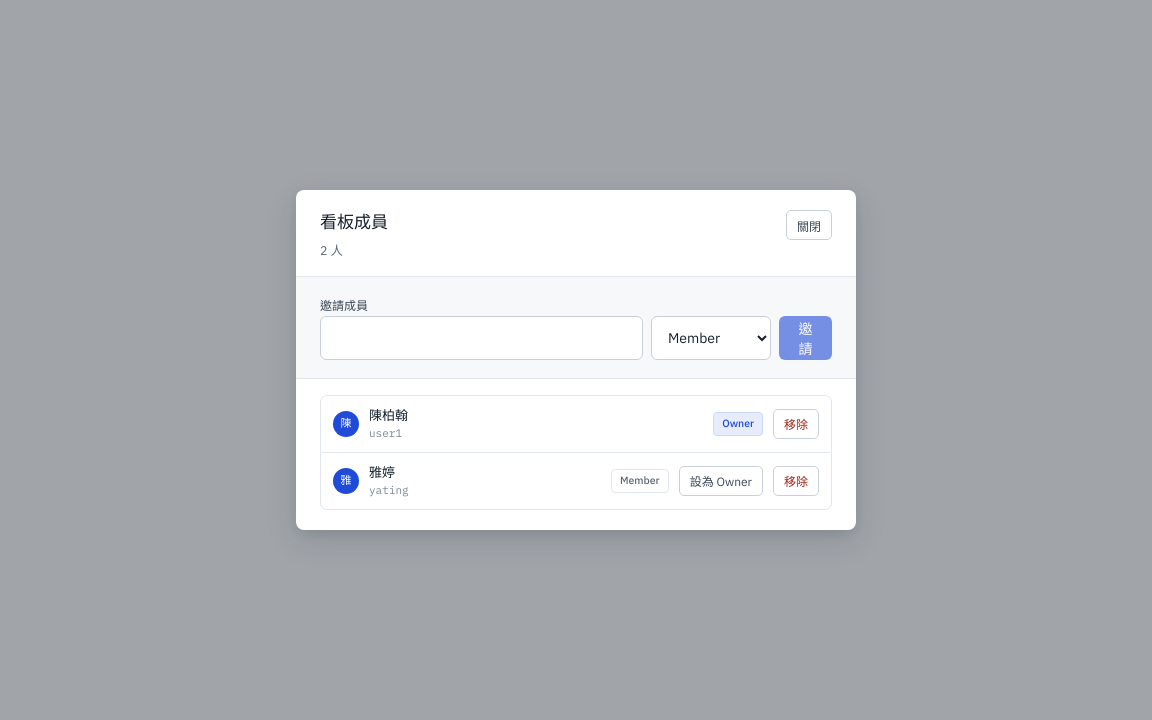
s-member-management › Owner 將 Member 升級為 Owner 後，確認過才觸發變更，該成員角色顯示為 Owner
Expected: the text "雅婷" is shown, [369,464,395,481]
Step 1. Click the button "設為 Owner" → (721, 481), box [679,466,763,496]
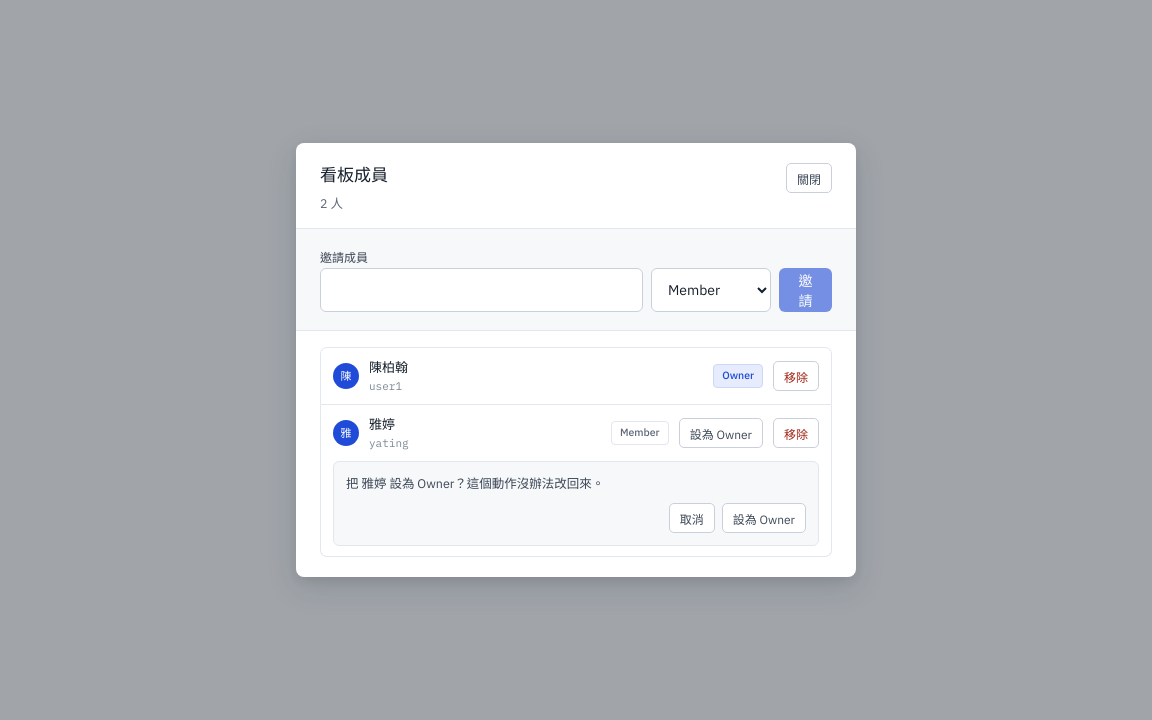
Expected: the text "把 雅婷 設為 Owner？這個動作沒辦法改回來。" is shown, [346,475,604,491]
Step 2. Click the button "設為 Owner" below "設為 Owner？這個動作沒辦法改回來。" → (764, 518), box [722,503,806,533]
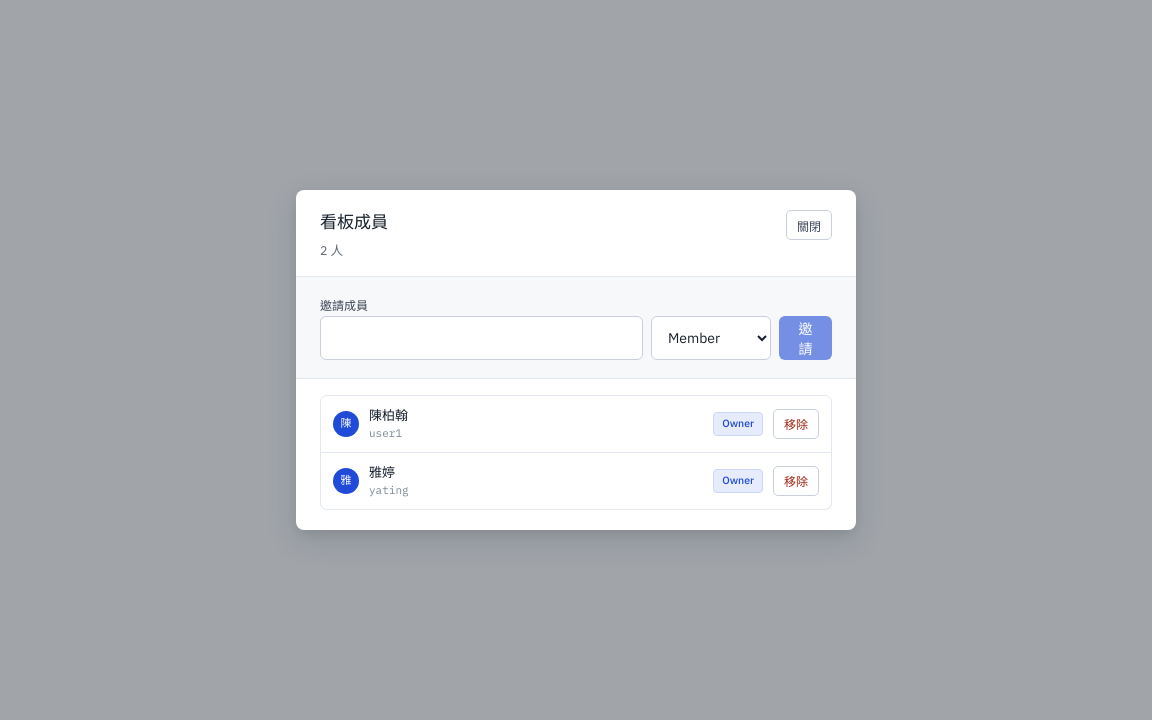
Expected: the text "Owner" in the row of "yating" is shown, [722,473,754,487]
